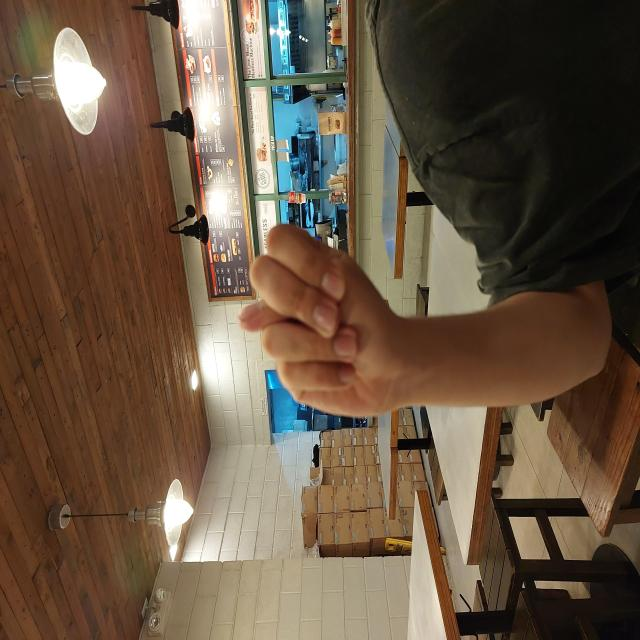N: (222, 237, 418, 400)
